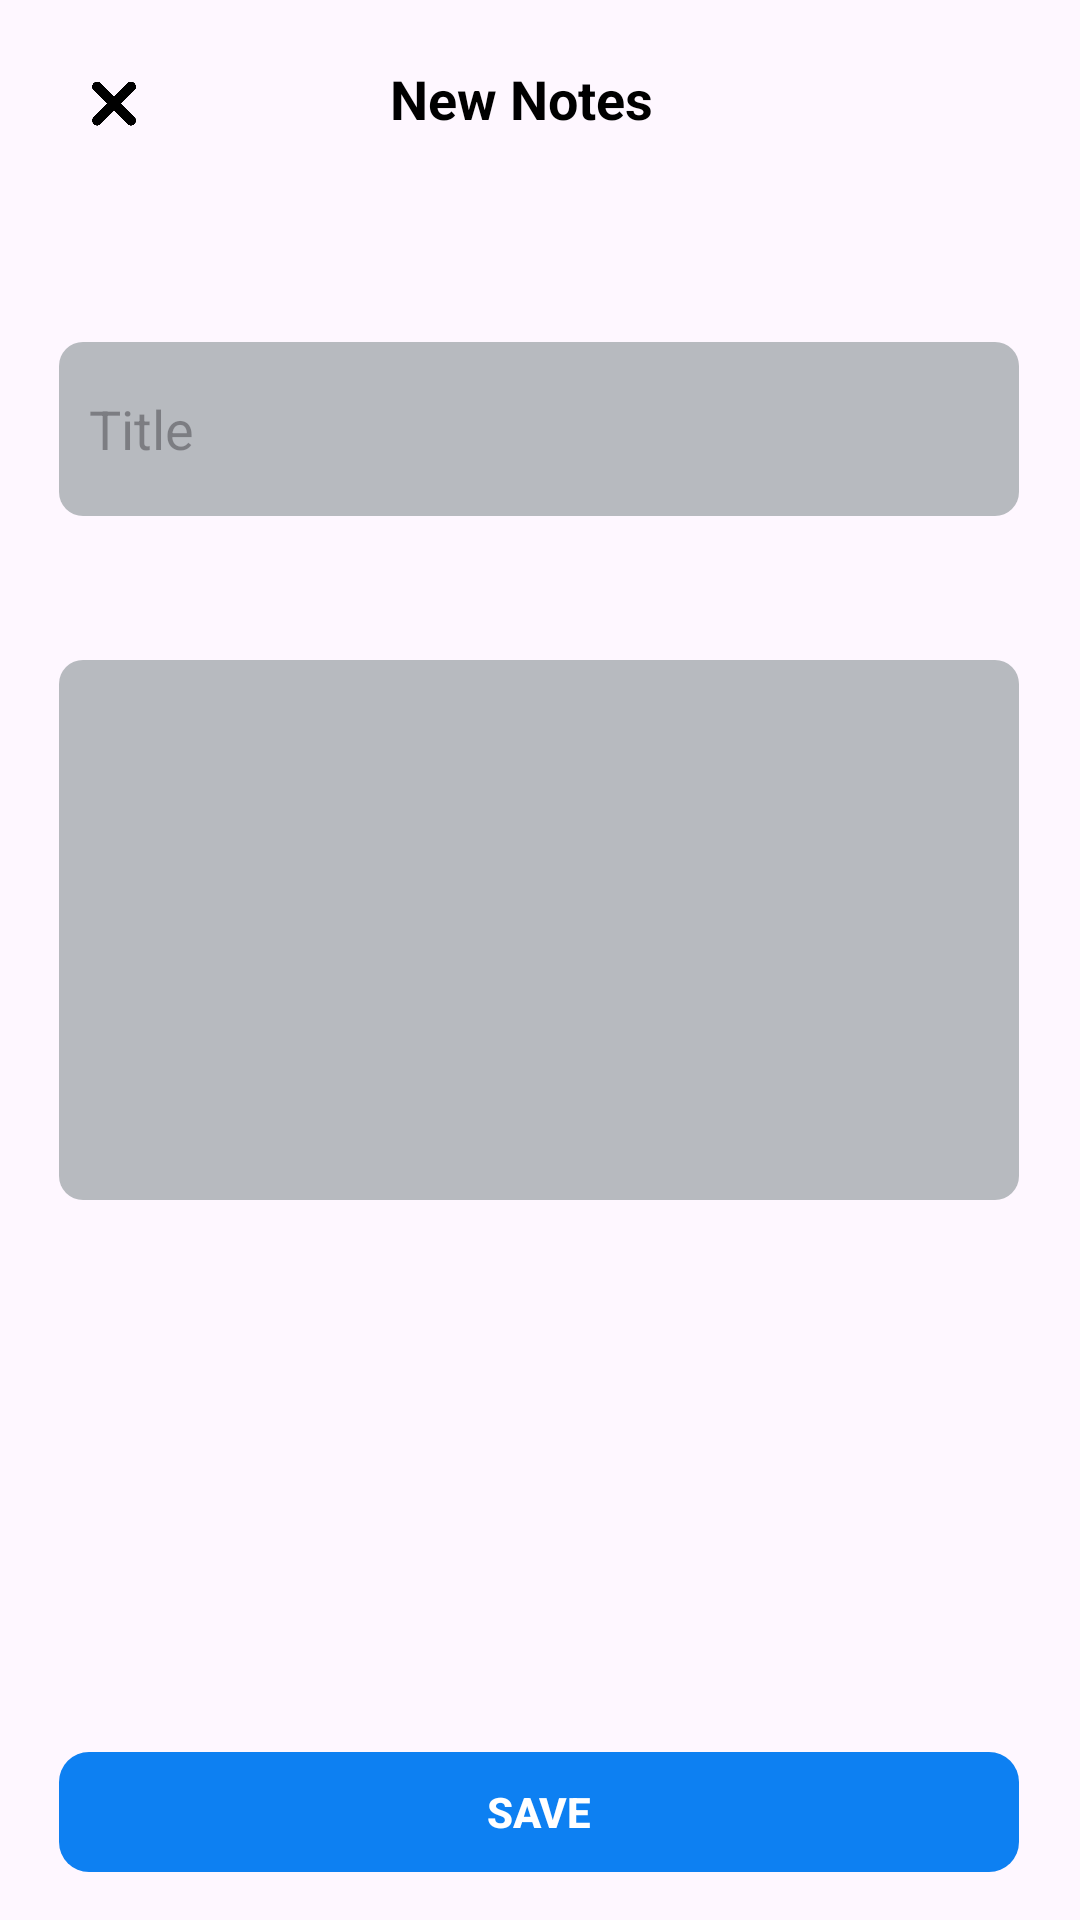

Named icons in this screenshot (1080 x 1920) and their centers, (x=x, y=y):
cross: (x=114, y=104)
